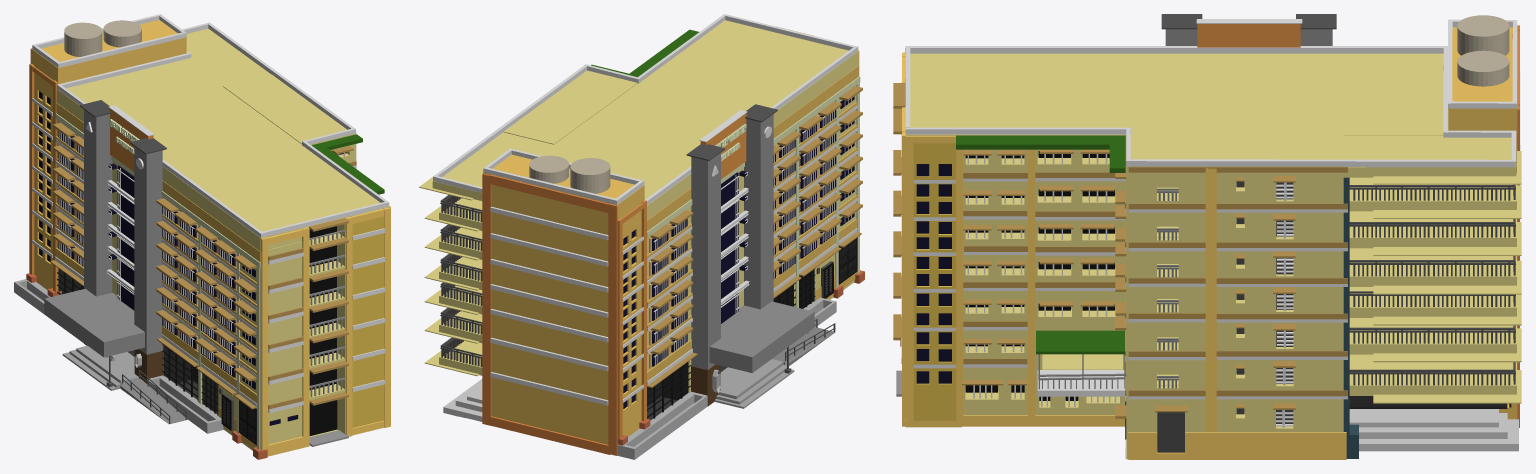
Rendered from academic.glb.
3 renders of one model, left to right at view 1: azimuth 30°, elevation 25°; view 2: azimuth 150°, elevation 25°; view 3: azimuth 270°, elevation 25°, orthographic. The views are drawn at different scales.
Visible parts, largest first — view 1: Cube.003; view 2: Cube.003; view 3: Cube.003.
Part boxes in pixels (box(x1,y1,x2,y2)): Cube.003: box(14, 14, 390, 459); Cube.003: box(419, 14, 864, 459); Cube.003: box(893, 14, 1521, 459).
Size of the model in its own units: 3.84 by 3.84 by 6.36.
